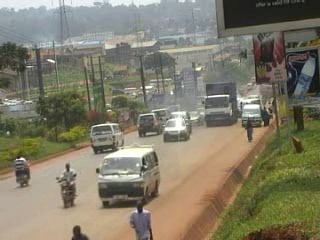Car: (160, 116, 193, 143), (134, 111, 164, 139), (165, 108, 193, 125), (184, 109, 202, 127)
Motorcycle: (53, 162, 79, 209), (13, 152, 33, 189)
